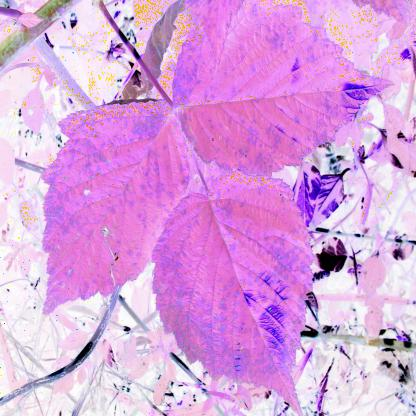Raspberry leaf: (172, 0, 398, 178), (154, 169, 303, 416), (41, 94, 174, 318)
